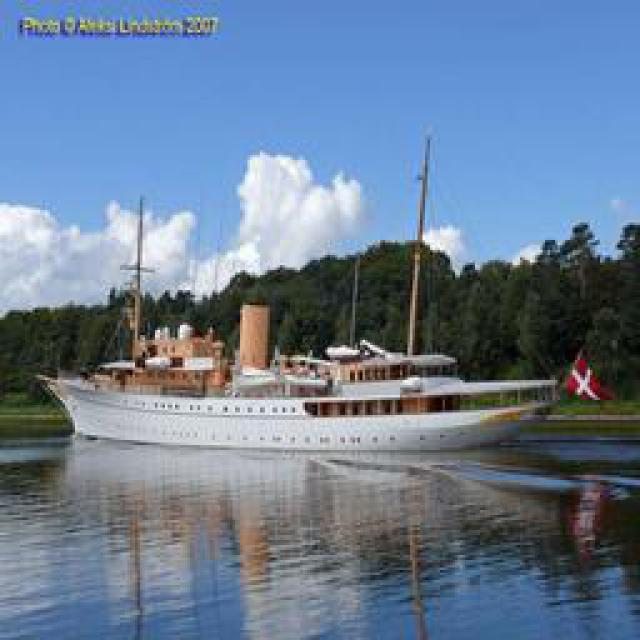Ship: (50, 346, 563, 464)
